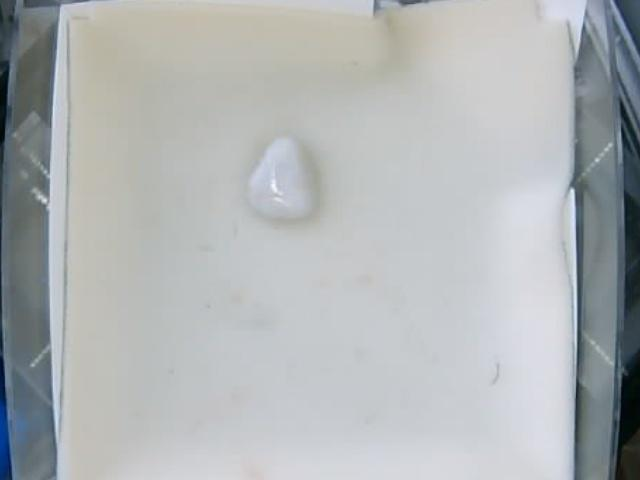Pebble: (246, 135, 315, 225)
